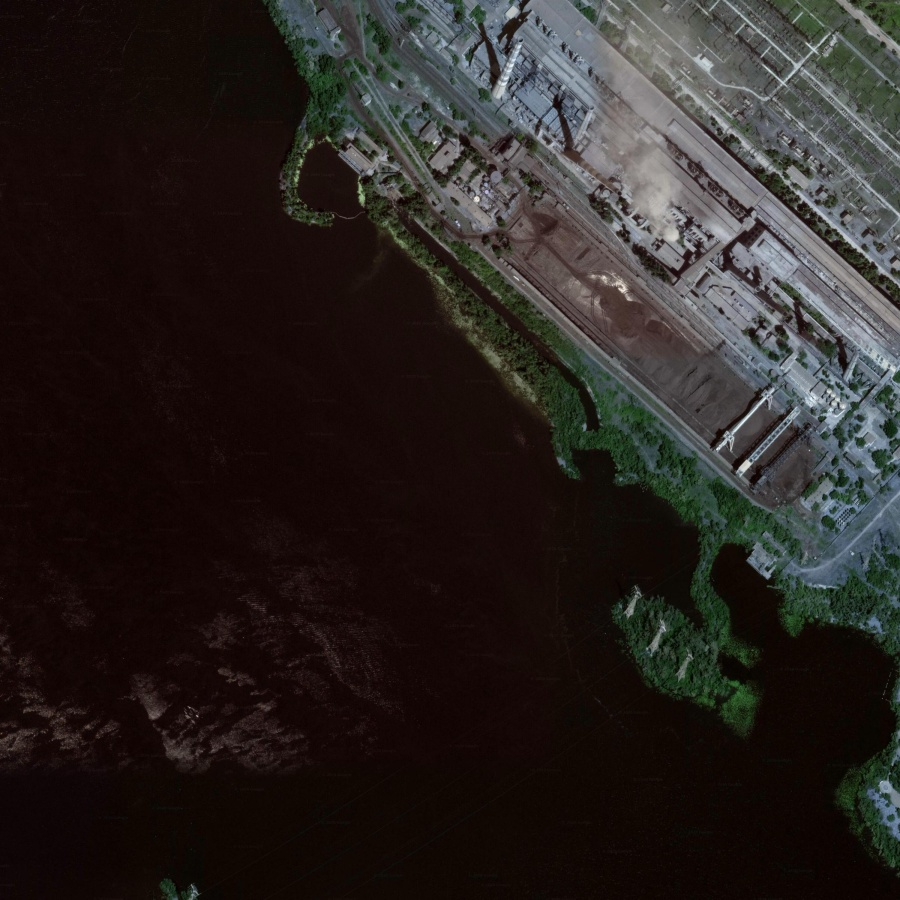PowerPlant: (448, 8, 881, 507)
